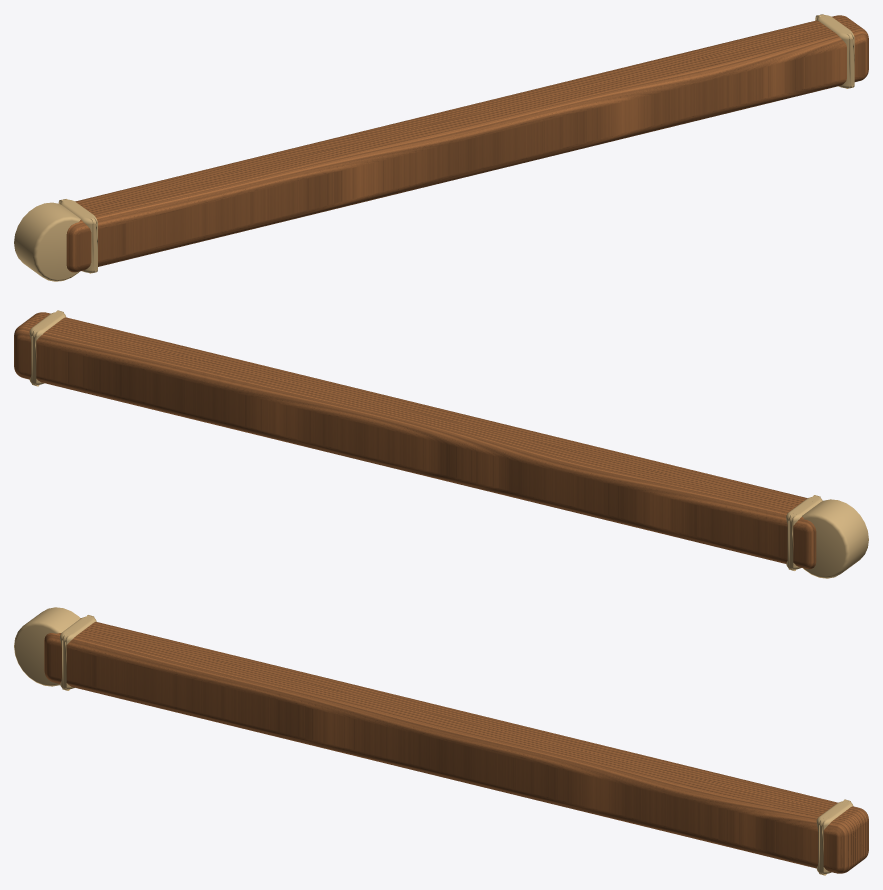
Rendered from theatre_gate_bar.glb.
The picture shows the model from 3 angles, top to bottom: view 1: azimuth 30°, elevation 25°; view 2: azimuth 150°, elevation 25°; view 3: azimuth 330°, elevation 25°; orthographic projection.
Visible parts, largest first — view 1: oak_crossbar, pivot_hub, end_ferrule0.384, end_ferrule0.012; view 2: oak_crossbar, pivot_hub, end_ferrule0.012, end_ferrule0.384; view 3: oak_crossbar, pivot_hub, end_ferrule0.384, end_ferrule0.012.
Part boxes in pixels (x1,y1,x2,y2): oak_crossbar: (66,15,868,272); pivot_hub: (14,202,80,281); end_ferrule0.384: (815,14,854,88); end_ferrule0.012: (58,199,97,273); oak_crossbar: (14,312,816,569); pivot_hub: (802,499,868,578); end_ferrule0.012: (786,495,822,570); end_ferrule0.384: (29,310,65,386); oak_crossbar: (44,618,868,873); pivot_hub: (14,607,80,686); end_ferrule0.384: (816,799,853,875); end_ferrule0.012: (60,615,96,690).
Size of the model in its own units: 0.411 by 0.03 by 0.0265.
2 materials, 1 textured.
